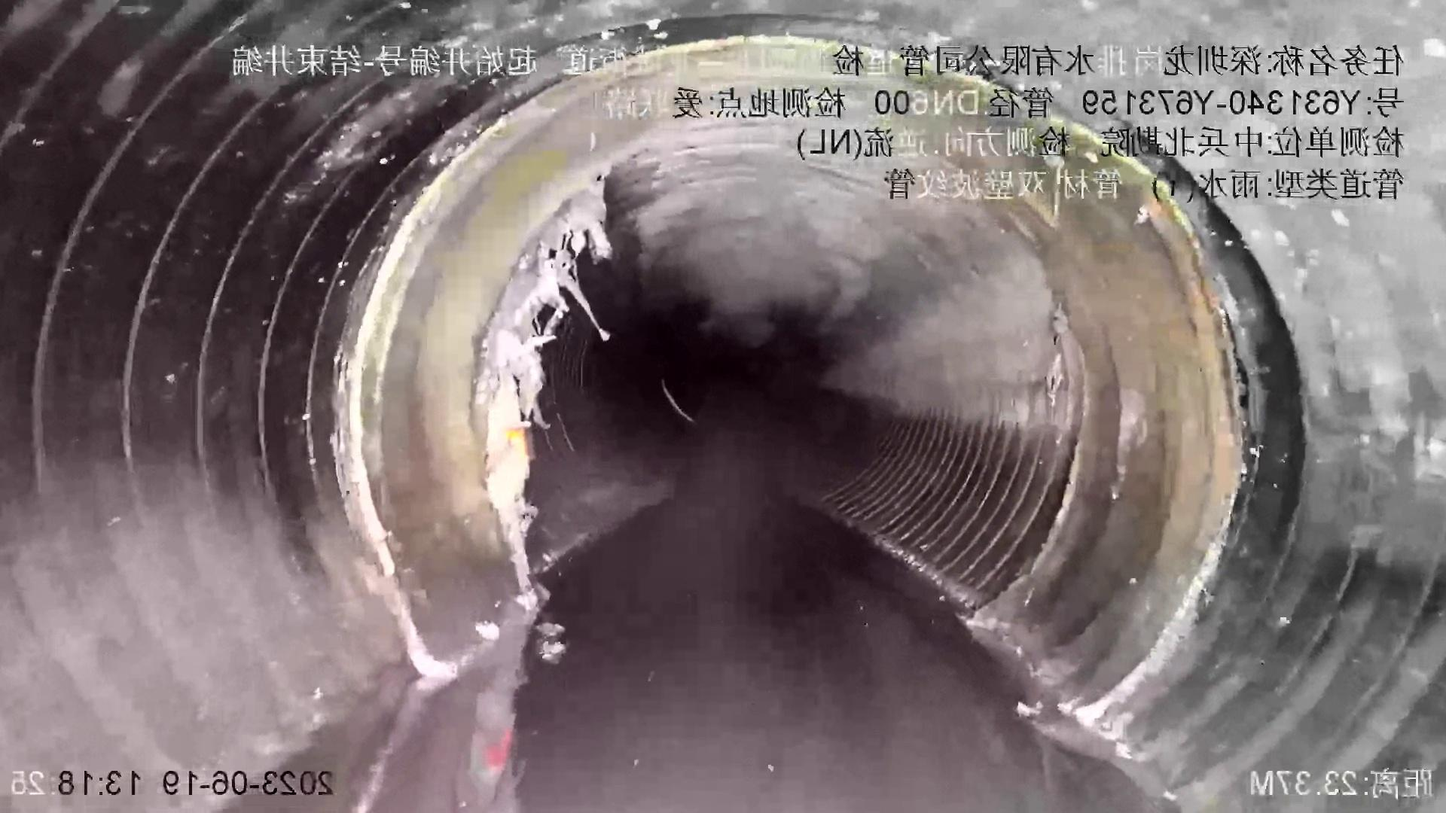JKCL: (326, 112, 709, 654)
